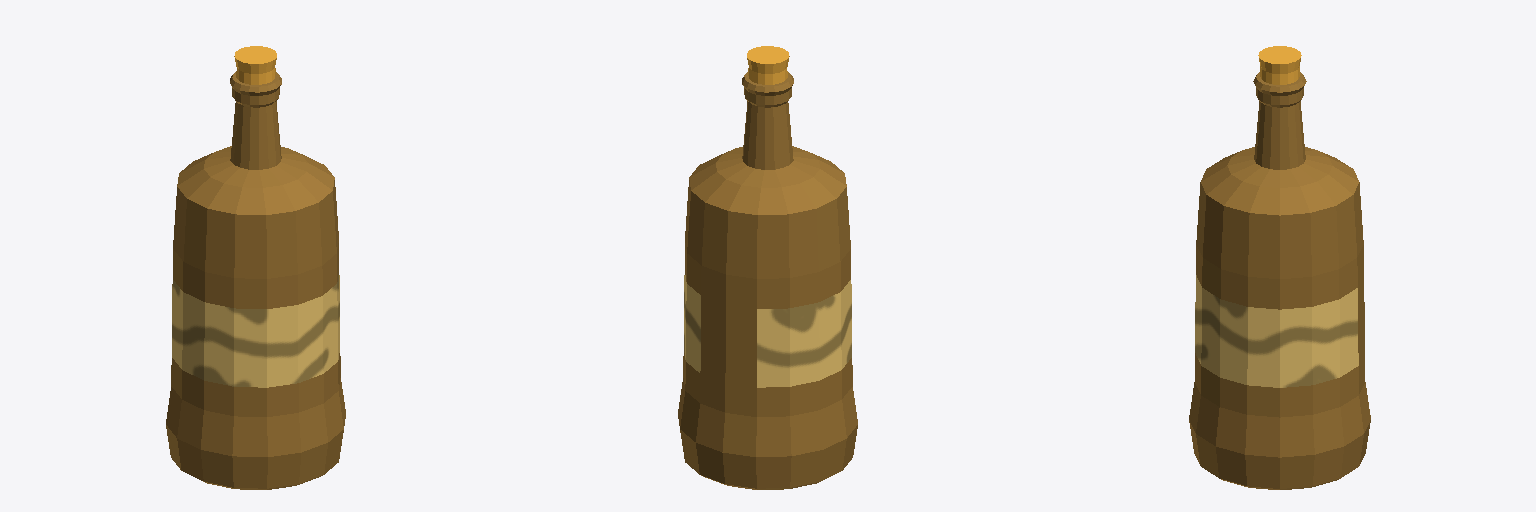
3 views of the same model, side by side, from view 1: azimuth 30°, elevation 25°; view 2: azimuth 150°, elevation 25°; view 3: azimuth 270°, elevation 25° (orthographic).
Parts seen in each view (by area): view 1: Cylinder; view 2: Cylinder; view 3: Cylinder.
Boxes of the visible parts, box(x1,y1,x2,y2) form: Cylinder: box(166, 46, 345, 489); Cylinder: box(678, 46, 857, 489); Cylinder: box(1189, 46, 1370, 489).
Bounding box in the file's own units: 2.29 × 5.57 × 2.29.
1 materials, 1 textured.